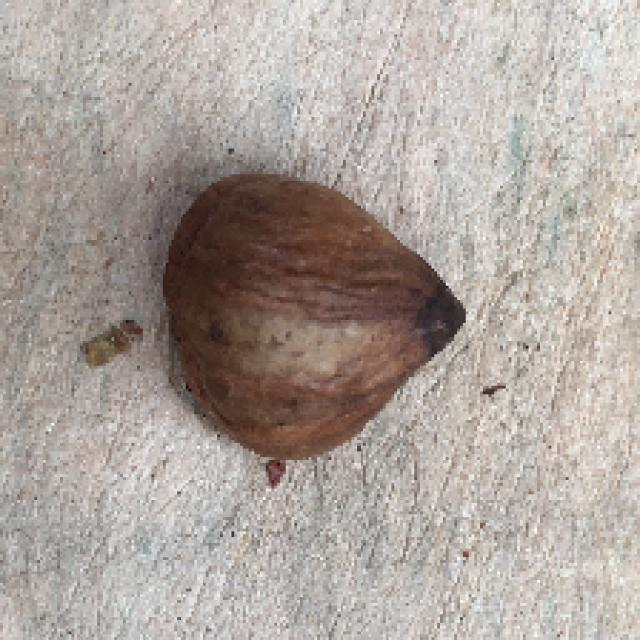hazelnut: (150, 153, 473, 496)
